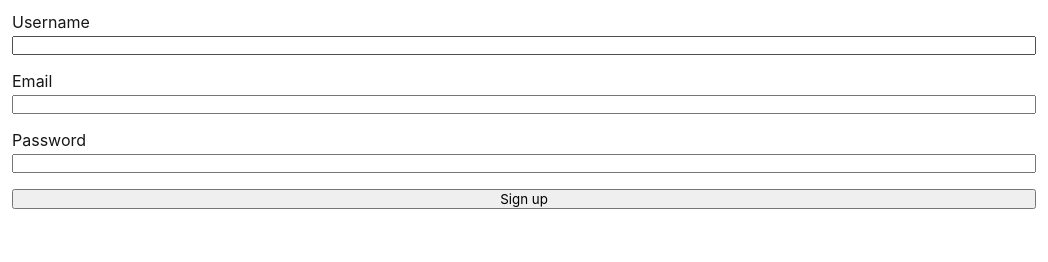
Scenario: RegisterForm › shows a validation error when the password is too short
This screenshot has width=1048, height=262.
Type "alice" into the field labelled "Username" at (524, 46), box [12,36,1036,55]
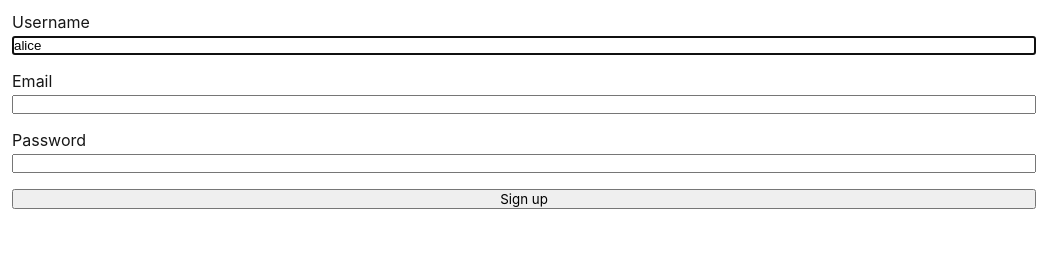
Type "alice@example.com" into the field labelled "Email" at (524, 104), box [12,95,1036,114]
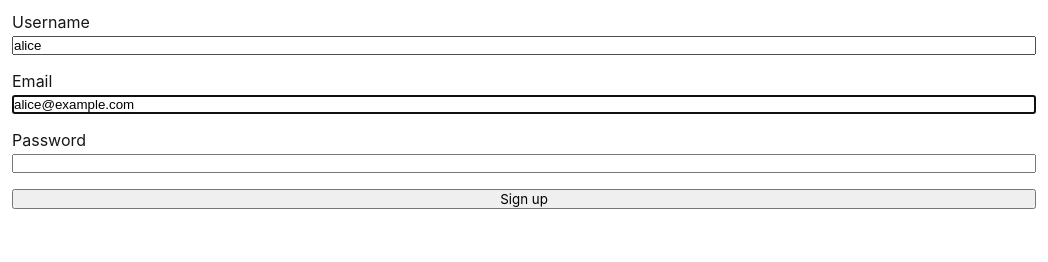
Type "short" into the password field labelled "Password" at (524, 164), box [12,154,1036,173]
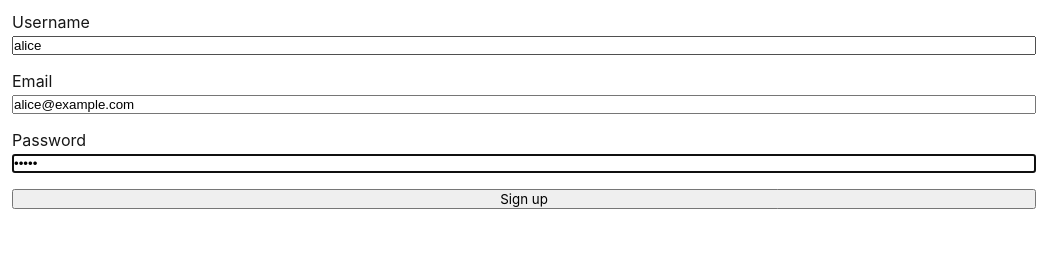
Click the button "Sign up" at (524, 199), box [12,189,1036,209]
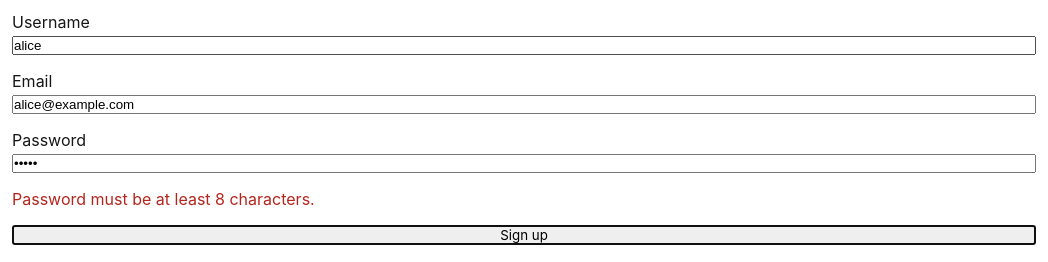
expect the message reads "Password must be at least 8 characters.": met, box [12,189,315,209]
